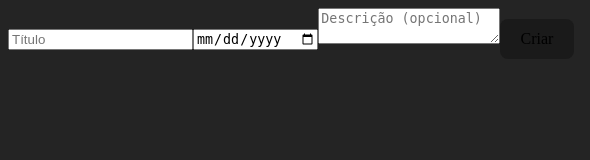
Test: CriarLembrete Component › deve exibir mensagem de erro ao receber erro do servidor
In the field with placeholder "Título": (100, 40) [8,29,193,50], type "Teste"
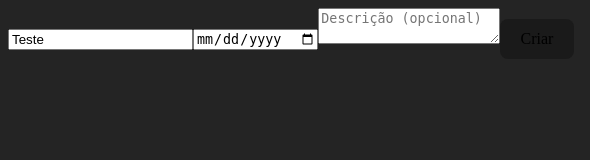
In the date field with placeholder "Data": (256, 39) [193,29,318,50], type "2025-01-01"
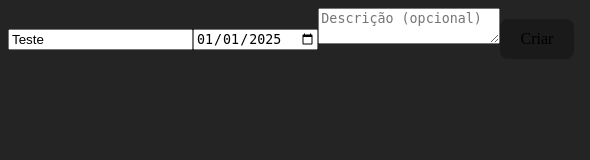
Click the button "Criar": (537, 39) [500,19,574,59]
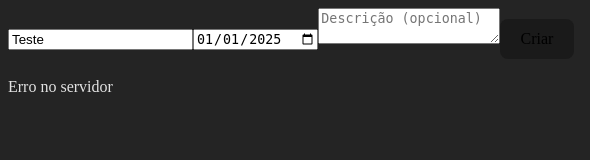
Result: the text "Erro no servidor" is shown at [8,78,113,95]
